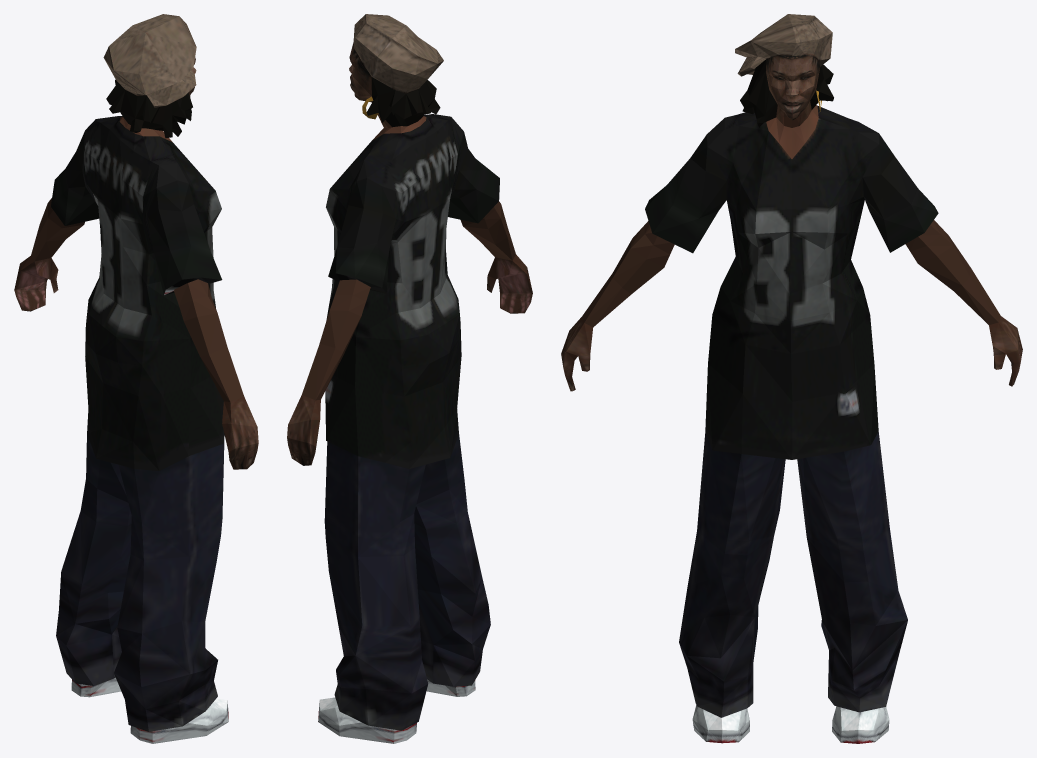
The model's file is kendl.obj.
3 views of the same model, side by side, from view 1: azimuth 30°, elevation 25°; view 2: azimuth 150°, elevation 25°; view 3: azimuth 270°, elevation 25° (orthographic). The views are drawn at different scales.
Parts seen in each view (by area): view 1: _Pelvis; view 2: _Pelvis; view 3: _Pelvis.
Part boxes in pixels (x1,y1,x2,y2): _Pelvis: [14, 14, 258, 743]; _Pelvis: [287, 14, 532, 743]; _Pelvis: [561, 14, 1022, 743].
Bounding box in the file's own units: 0.3384 × 1.82 × 1.06.
1 material, 1 textured.
